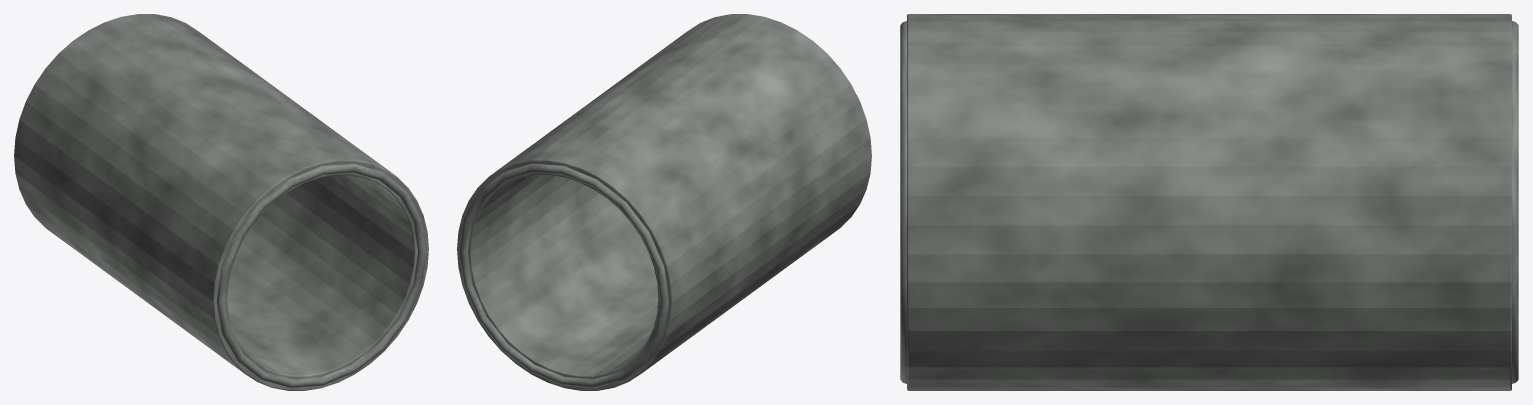
Rendered from GR_ConcreteCulvert_03.glb.
3 renders of one model, left to right at view 1: azimuth 30°, elevation 25°; view 2: azimuth 150°, elevation 25°; view 3: azimuth 270°, elevation 25°, orthographic. The views are drawn at different scales.
Visible parts, largest first — view 1: Static; view 2: Static; view 3: Static.
Boxes of the visible parts, <box> form: Static: <box>14,14,428,390</box>; Static: <box>457,14,871,390</box>; Static: <box>900,14,1518,390</box>.
Bounding box in the file's own units: 1.34 × 1.34 × 2.2.
1 material, 1 textured.
